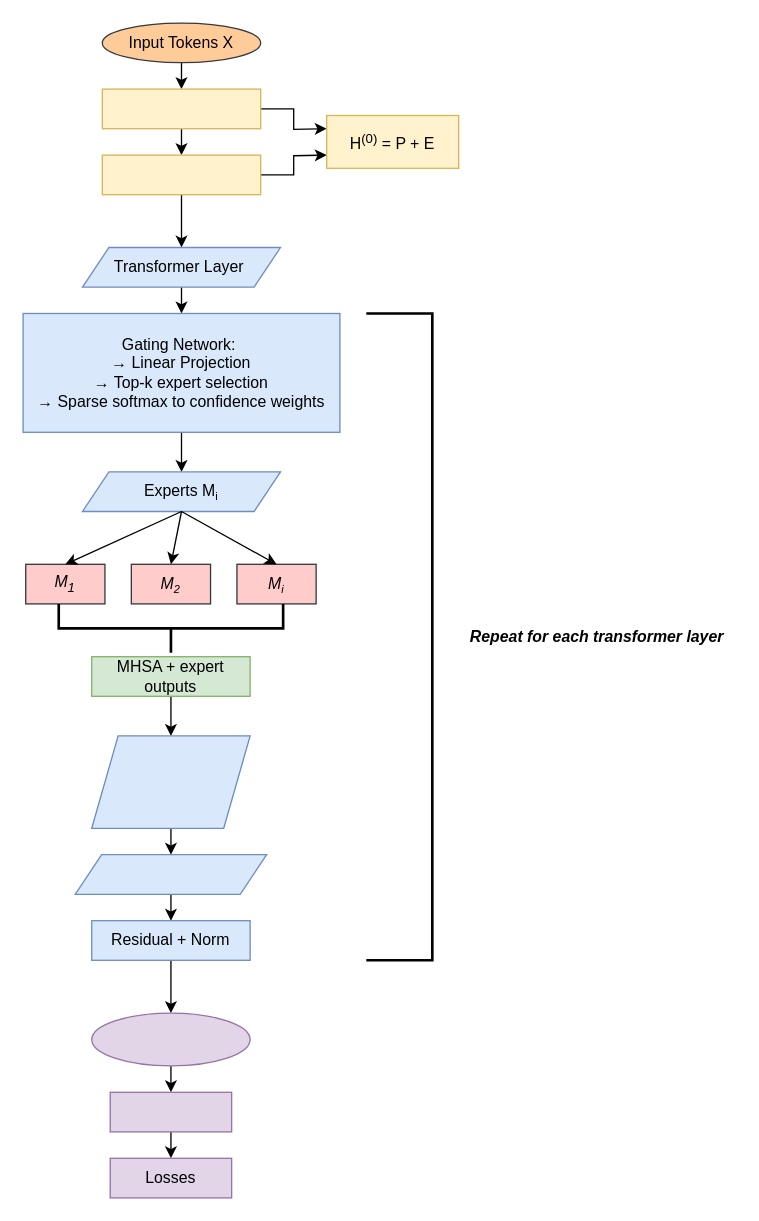
Some shapes in this 759 by 1221 pixel diagram are drawn without their labels. Here are the shapes that lost their labels. From the top down, the centre of each, then its label:
the point at 181,108: Embedding E
the point at 181,174: Positional P
the point at 170,781: FiLM → Add γₜ⁽ⁱ⁾, βₜ⁽ⁱ⁾ to expert output
the point at 170,873: Expert Aggregation
the point at 170,1039: Final Token Representations
the point at 170,1111: Output Layer
